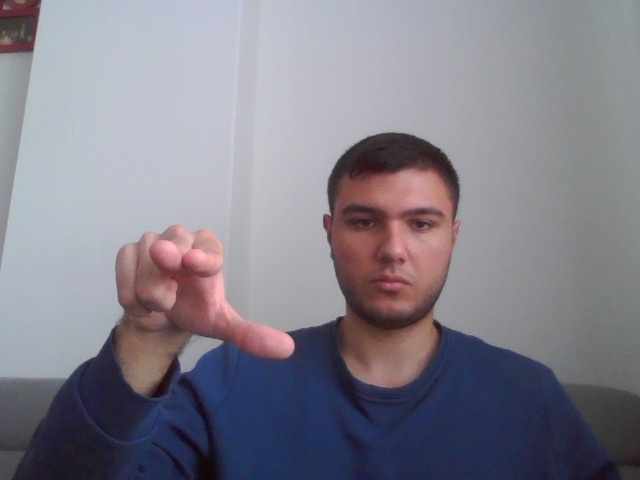no: (114, 223, 299, 365)
